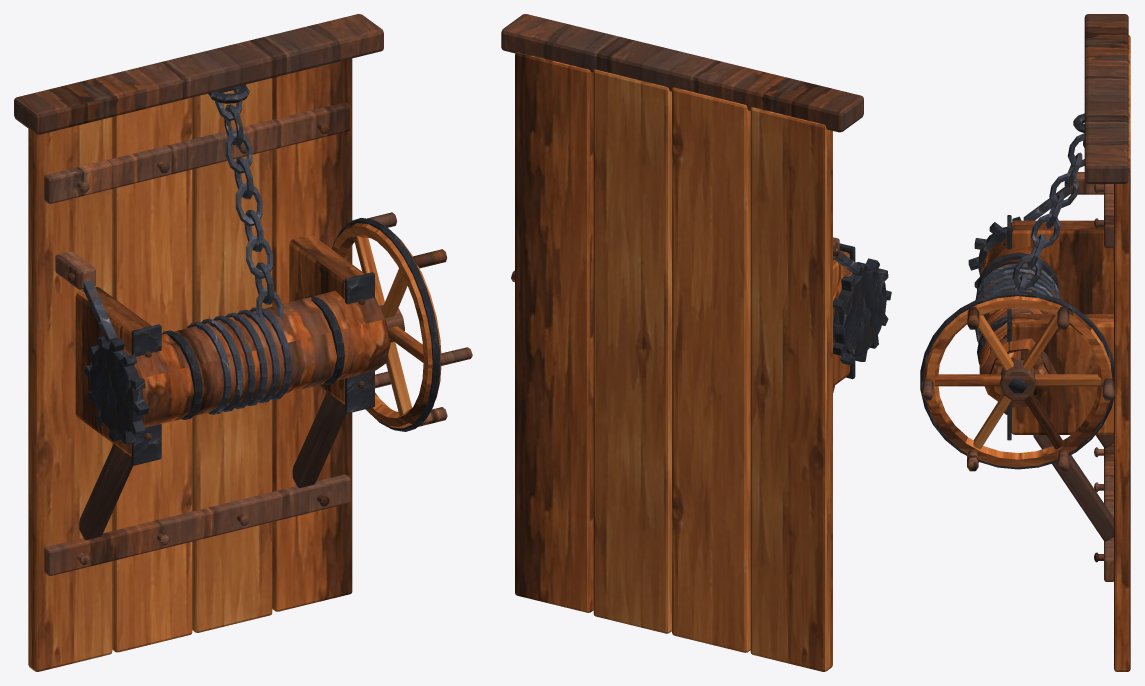
Rendered from mg_gate_windlass.glb.
The picture shows the model from 3 angles, left to right: view 1: azimuth 30°, elevation 25°; view 2: azimuth 150°, elevation 25°; view 3: azimuth 270°, elevation 25°; orthographic projection. The views are drawn at different scales.
Parts seen in each view (by area): view 1: model; view 2: model; view 3: model.
Part boxes in pixels (x1,y1,x2,y2): model: (14,14,472,671); model: (501,14,891,671); model: (920,14,1130,671).
Bounding box in the file's own units: 0.98 × 1.54 × 0.5705.
Materials: 11 (11 with a texture image).
